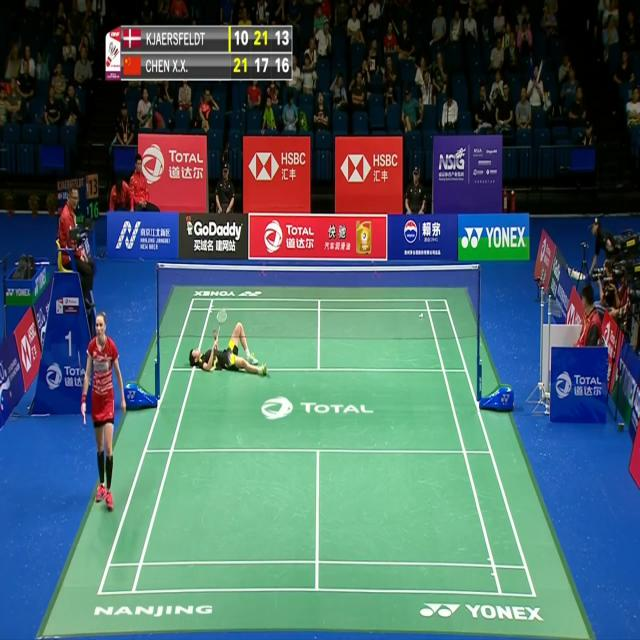Player1: (78, 308, 128, 516)
Player2: (183, 299, 273, 382)
